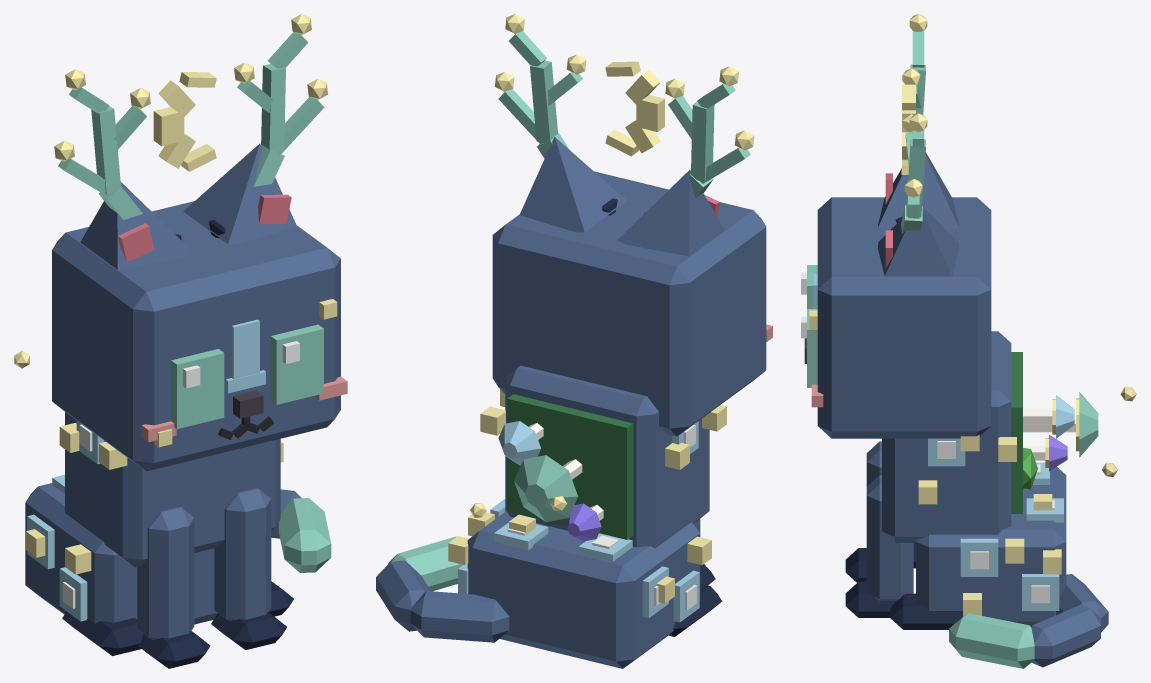
File: CatCafe_Cat_Moonstag_Sit.fbx
3 views of the same model, side by side, from view 1: azimuth 30°, elevation 25°; view 2: azimuth 150°, elevation 25°; view 3: azimuth 270°, elevation 25° (orthographic). The views are drawn at different scales.
Parts seen in each view (by area): view 1: CatCafe_Cat_Moonstag_Sit_Head, CatCafe_Cat_Moonstag_Sit_Body, CatCafe_Cat_Moonstag_Sit_Glow, CatCafe_Cat_Moonstag_Sit_LegF1, CatCafe_Cat_Moonstag_Sit_LegF2, CatCafe_Cat_Moonstag_Sit_EarL, CatCafe_Cat_Moonstag_Sit_EarR, CatCafe_Cat_Moonstag_Sit_Eye1, CatCafe_Cat_Moonstag_Sit_Eye2, CatCafe_Cat_Moonstag_Sit_Tail; view 2: CatCafe_Cat_Moonstag_Sit_Head, CatCafe_Cat_Moonstag_Sit_Body, CatCafe_Cat_Moonstag_Sit_Glow, CatCafe_Cat_Moonstag_Sit_Prop2, CatCafe_Cat_Moonstag_Sit_Tail, CatCafe_Cat_Moonstag_Sit_Grove_Glow, CatCafe_Cat_Moonstag_Sit_EarL, CatCafe_Cat_Moonstag_Sit_EarR; view 3: CatCafe_Cat_Moonstag_Sit_Head, CatCafe_Cat_Moonstag_Sit_Body, CatCafe_Cat_Moonstag_Sit_Tail, CatCafe_Cat_Moonstag_Sit_LegF1, CatCafe_Cat_Moonstag_Sit_Glow, CatCafe_Cat_Moonstag_Sit_EarL, CatCafe_Cat_Moonstag_Sit_Prop2, CatCafe_Cat_Moonstag_Sit_Grove_Glow, CatCafe_Cat_Moonstag_Sit_EarR, CatCafe_Cat_Moonstag_Sit_LegF2, CatCafe_Cat_Moonstag_Sit_Eye1.
Boxes of the visible parts, x1,y1,x2,y2 form: CatCafe_Cat_Moonstag_Sit_Head: [52, 201, 347, 471]; CatCafe_Cat_Moonstag_Sit_Body: [25, 412, 293, 655]; CatCafe_Cat_Moonstag_Sit_Glow: [54, 14, 328, 219]; CatCafe_Cat_Moonstag_Sit_LegF1: [211, 488, 286, 649]; CatCafe_Cat_Moonstag_Sit_LegF2: [137, 507, 210, 668]; CatCafe_Cat_Moonstag_Sit_EarL: [183, 143, 296, 244]; CatCafe_Cat_Moonstag_Sit_EarR: [80, 182, 193, 269]; CatCafe_Cat_Moonstag_Sit_Eye1: [270, 324, 323, 404]; CatCafe_Cat_Moonstag_Sit_Eye2: [171, 349, 224, 428]; CatCafe_Cat_Moonstag_Sit_Tail: [271, 489, 331, 572]; CatCafe_Cat_Moonstag_Sit_Head: [492, 171, 772, 436]; CatCafe_Cat_Moonstag_Sit_Body: [448, 365, 726, 668]; CatCafe_Cat_Moonstag_Sit_Glow: [495, 14, 754, 198]; CatCafe_Cat_Moonstag_Sit_Prop2: [507, 394, 633, 539]; CatCafe_Cat_Moonstag_Sit_Tail: [376, 536, 509, 642]; CatCafe_Cat_Moonstag_Sit_Grove_Glow: [470, 421, 601, 541]; CatCafe_Cat_Moonstag_Sit_EarL: [519, 136, 626, 232]; CatCafe_Cat_Moonstag_Sit_EarR: [617, 170, 724, 256]; CatCafe_Cat_Moonstag_Sit_Head: [804, 197, 991, 438]; CatCafe_Cat_Moonstag_Sit_Body: [882, 331, 1066, 629]; CatCafe_Cat_Moonstag_Sit_Tail: [949, 574, 1108, 668]; CatCafe_Cat_Moonstag_Sit_LegF1: [845, 475, 913, 617]; CatCafe_Cat_Moonstag_Sit_Glow: [901, 14, 927, 233]; CatCafe_Cat_Moonstag_Sit_EarL: [878, 206, 958, 276]; CatCafe_Cat_Moonstag_Sit_Prop2: [1011, 352, 1075, 513]; CatCafe_Cat_Moonstag_Sit_Grove_Glow: [1045, 387, 1136, 476]; CatCafe_Cat_Moonstag_Sit_EarR: [878, 152, 958, 227]; CatCafe_Cat_Moonstag_Sit_LegF2: [845, 441, 881, 582]; CatCafe_Cat_Moonstag_Sit_Eye1: [801, 309, 817, 387].
Size of the model in its own units: 1.37 by 2.37 by 1.36.
Materials: 1 (1 with a texture image).
